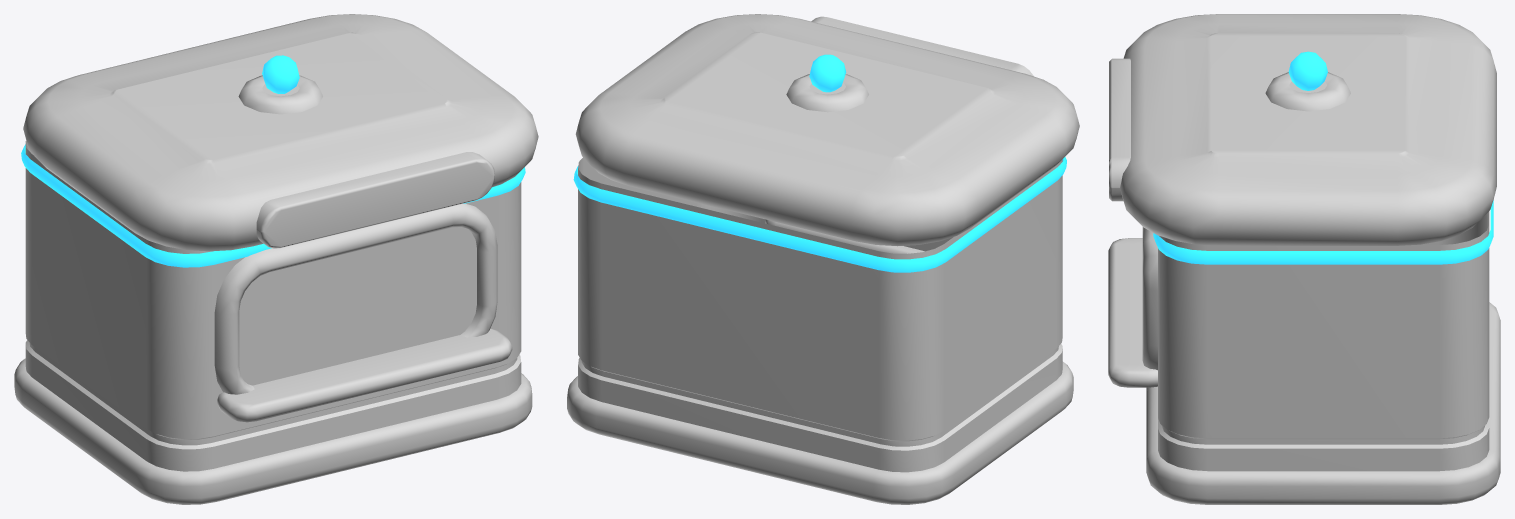
Rendered from Hub_CleanBooth.fbx.
The picture shows the model from 3 angles, left to right: view 1: azimuth 30°, elevation 25°; view 2: azimuth 150°, elevation 25°; view 3: azimuth 270°, elevation 25°; orthographic projection. The views are drawn at different scales.
Parts seen in each view (by area): view 1: CleanBooth_Body, CleanBooth_Tint, CleanBooth_Glow; view 2: CleanBooth_Body, CleanBooth_Tint, CleanBooth_Glow; view 3: CleanBooth_Tint, CleanBooth_Body, CleanBooth_Glow.
Boxes of the visible parts, x1,y1,x2,y2 form: CleanBooth_Body: [25, 75, 521, 471]; CleanBooth_Tint: [14, 14, 538, 504]; CleanBooth_Glow: [21, 55, 525, 267]; CleanBooth_Body: [578, 16, 1062, 472]; CleanBooth_Tint: [567, 14, 1079, 504]; CleanBooth_Glow: [573, 54, 1066, 272]; CleanBooth_Tint: [1108, 14, 1500, 504]; CleanBooth_Body: [1109, 58, 1489, 471]; CleanBooth_Glow: [1153, 51, 1493, 264].
Bounding box in the file's own units: 12.3 × 10.42 × 10.3.
